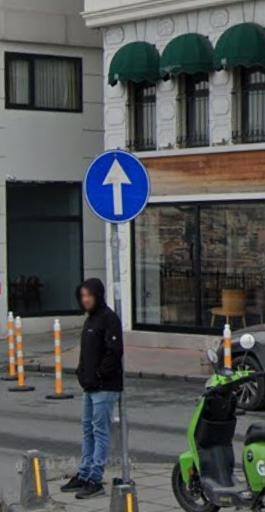forward: (88, 153, 144, 219)
